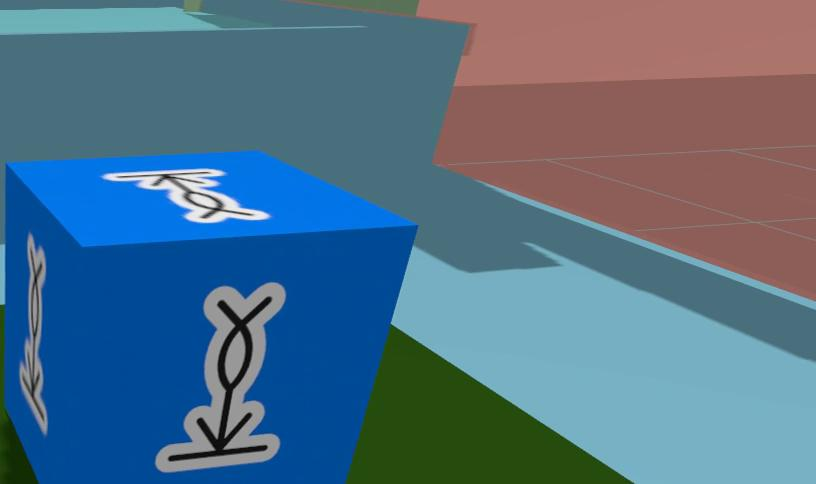KFS_REAL: (3, 151, 416, 484), (155, 283, 285, 471), (101, 170, 271, 223)
